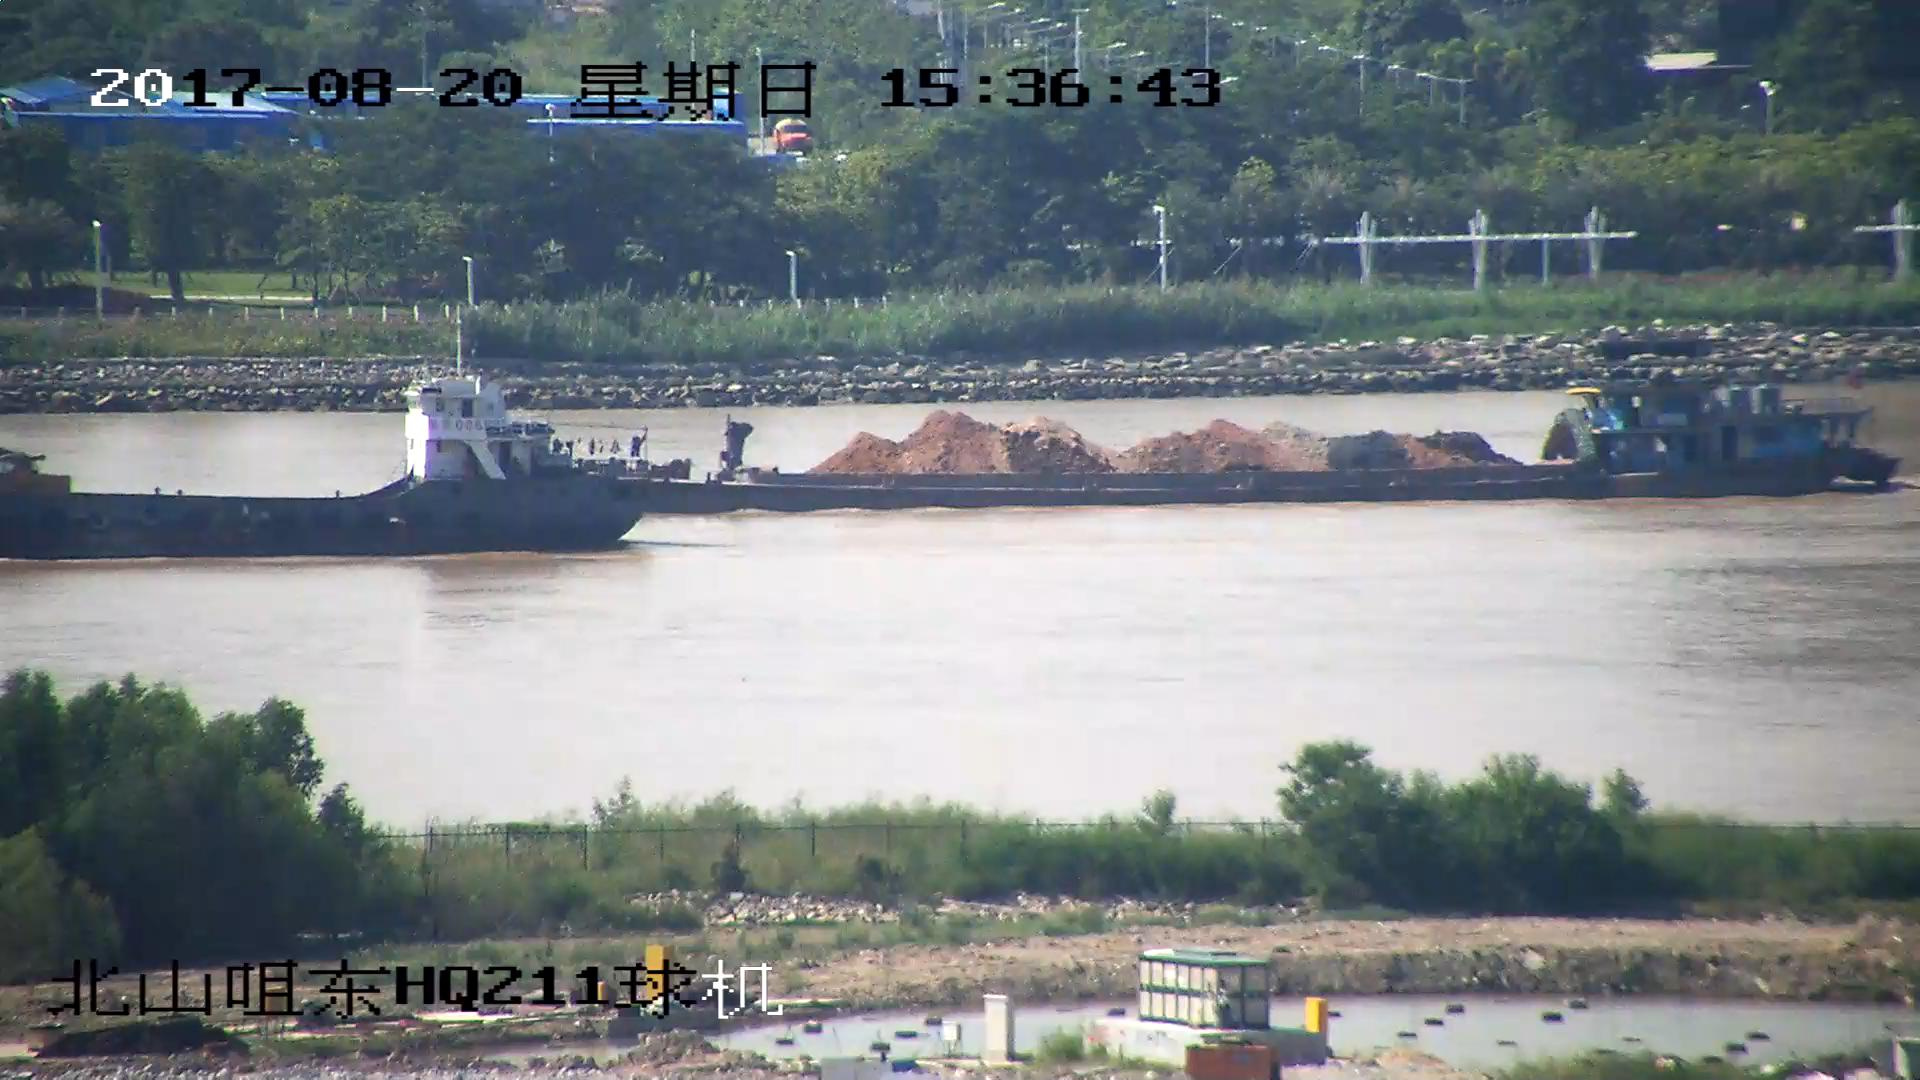general cargo ship: (1, 312, 668, 558)
ore carrier: (574, 380, 1895, 508)
